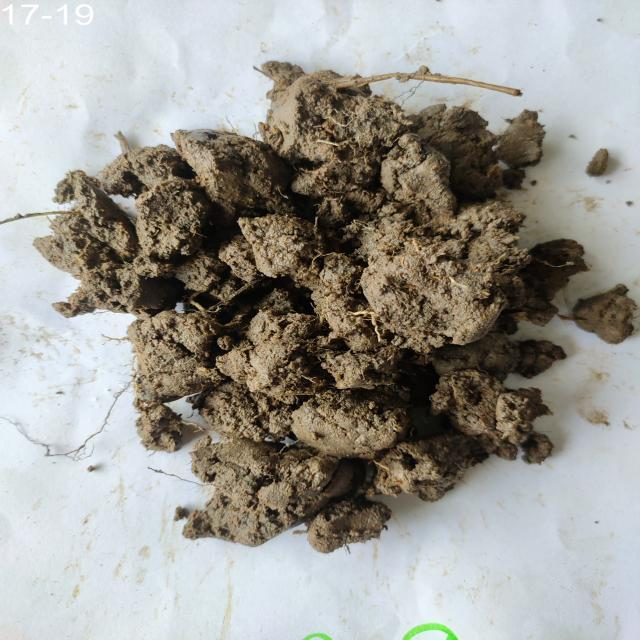soil: (170, 134, 494, 447)
